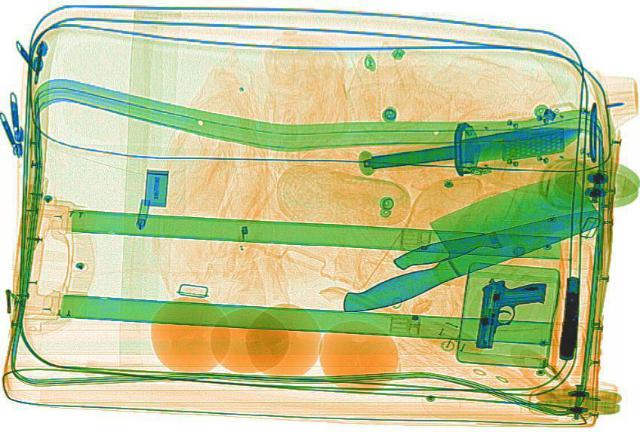Gun: (470, 274, 548, 349), (554, 275, 582, 358)
Knife: (299, 168, 619, 318), (387, 202, 613, 270), (357, 119, 587, 175)
